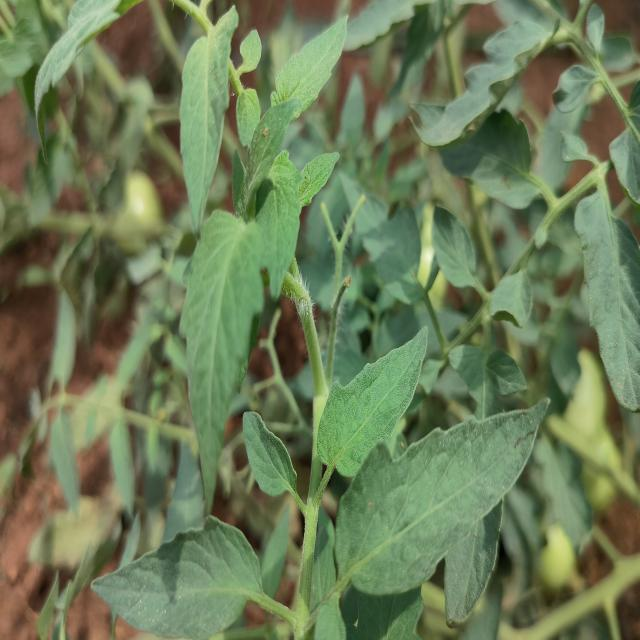tomato_healthy: (336, 386, 558, 599), (181, 207, 256, 517), (93, 515, 277, 640), (318, 322, 432, 472), (180, 2, 236, 232)
